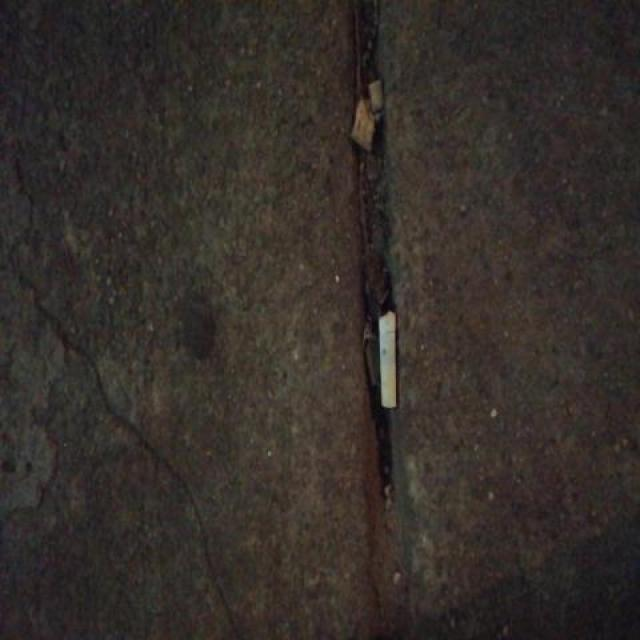non-organic waste: (377, 308, 399, 411)
